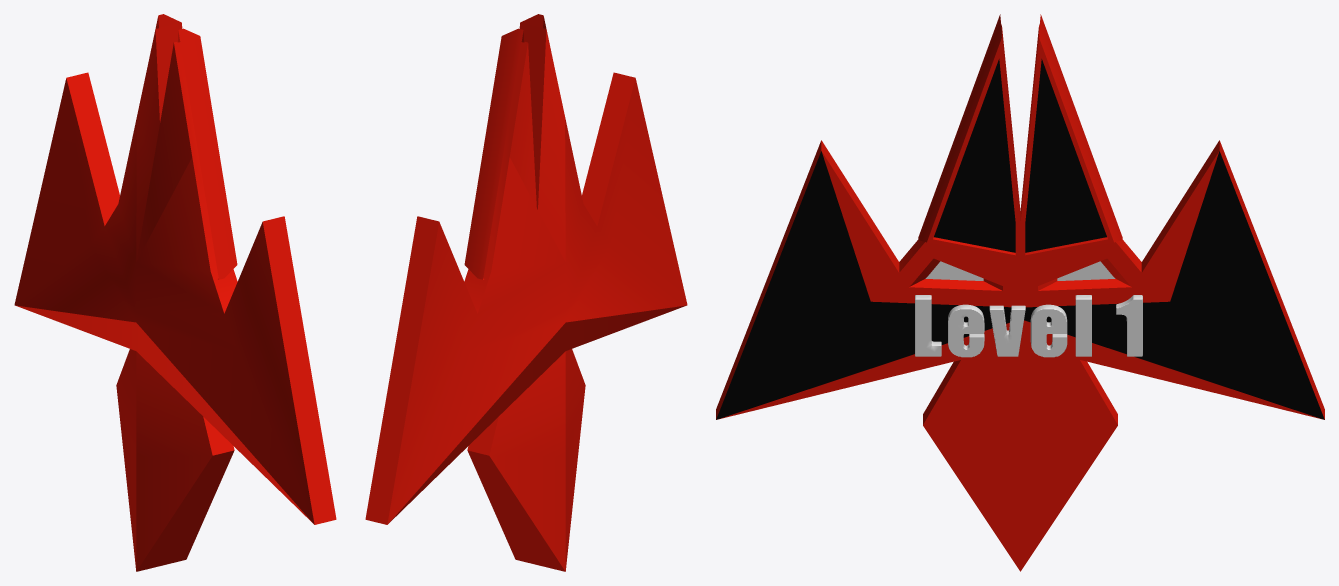
The model's file is DLSignLevel1.fbx.
The picture shows the model from 3 angles, left to right: view 1: azimuth 30°, elevation 25°; view 2: azimuth 150°, elevation 25°; view 3: azimuth 270°, elevation 25°; orthographic projection.
Visible parts, largest first — view 1: Text; view 2: Text; view 3: Text.
Part boxes in pixels (box(x1,y1,x2,y2)): Text: box(14, 14, 336, 571); Text: box(365, 14, 687, 571); Text: box(716, 14, 1324, 571).
Size of the model in its own units: 76.74 by 684 by 687.
